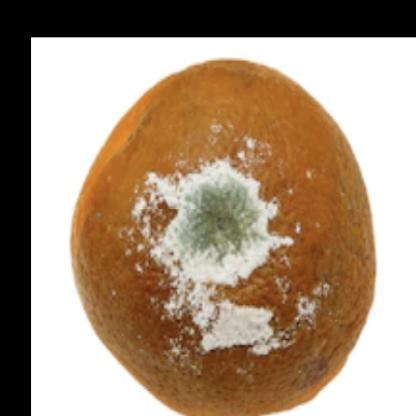rotten: (69, 61, 374, 416)
